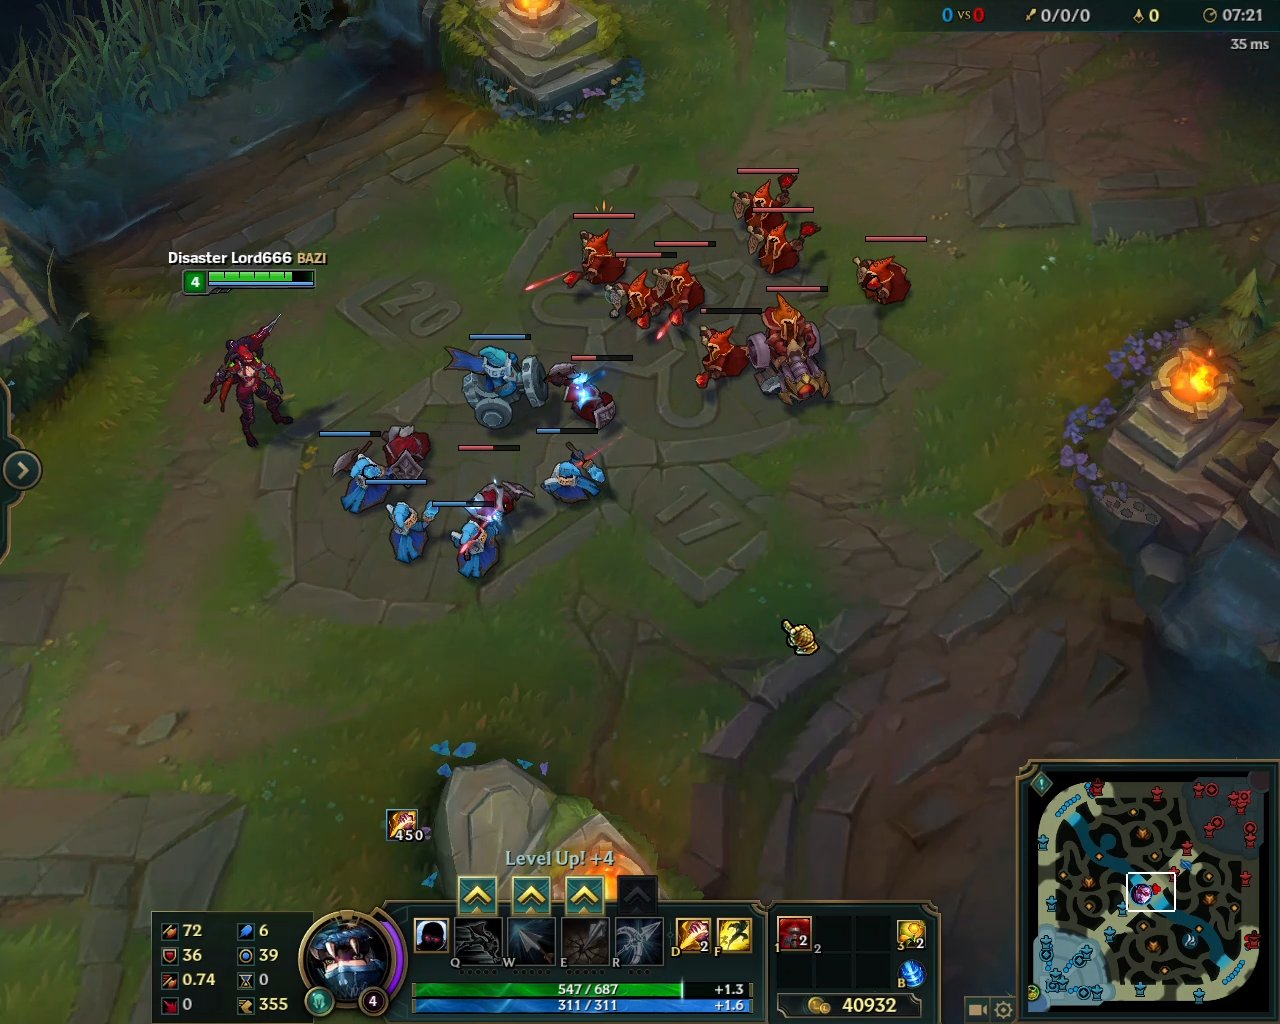EnemyMinion: (745, 284, 834, 408), (538, 352, 639, 430), (458, 440, 531, 531), (845, 236, 931, 309), (689, 307, 761, 391), (561, 212, 637, 290), (650, 240, 718, 326), (741, 208, 820, 279), (611, 251, 678, 333), (729, 168, 801, 243)
Vayne: (199, 312, 293, 458)
